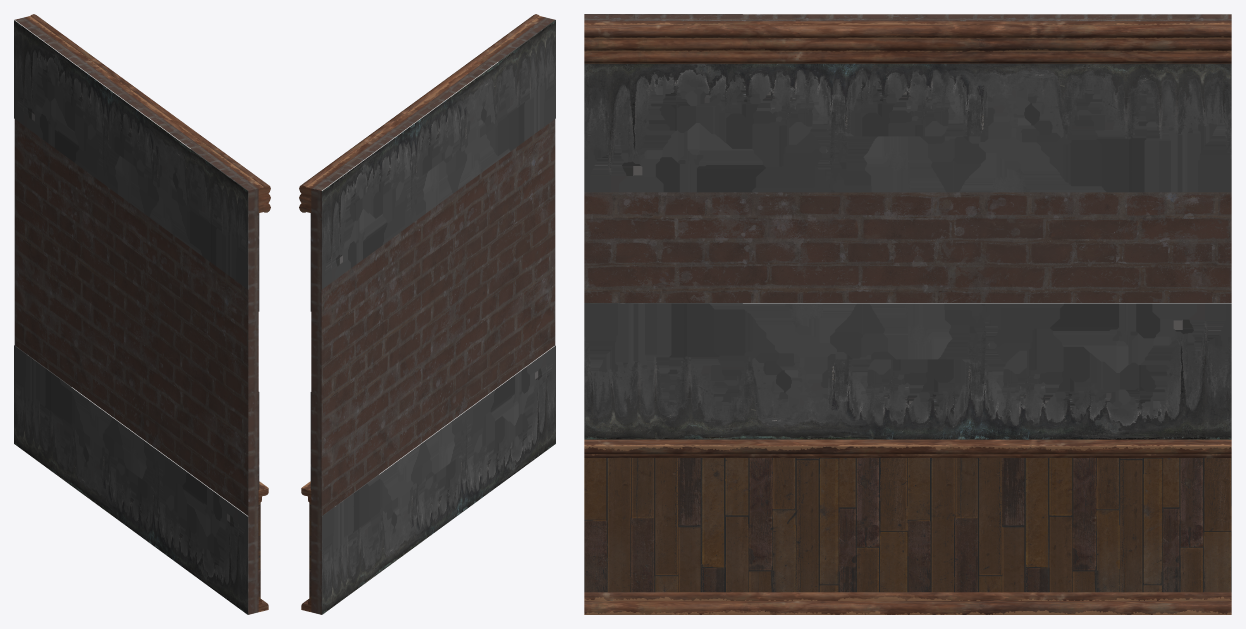
The model's file is Kit_BricksOldWood.fbx.
The picture shows the model from 3 angles, left to right: view 1: azimuth 30°, elevation 25°; view 2: azimuth 150°, elevation 25°; view 3: azimuth 270°, elevation 25°; orthographic projection. The views are drawn at different scales.
Parts seen in each view (by area): view 1: Kit_BricksOldWood; view 2: Kit_BricksOldWood; view 3: Kit_BricksOldWood.
Boxes of the visible parts, left/top/right/bottom form: Kit_BricksOldWood: left=14, top=14, right=270, bottom=614; Kit_BricksOldWood: left=299, top=14, right=555, bottom=614; Kit_BricksOldWood: left=584, top=14, right=1231, bottom=614.
Size of the model in its own units: 8.99 by 158 by 157.
